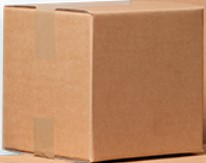stock: (4, 3, 206, 161)
